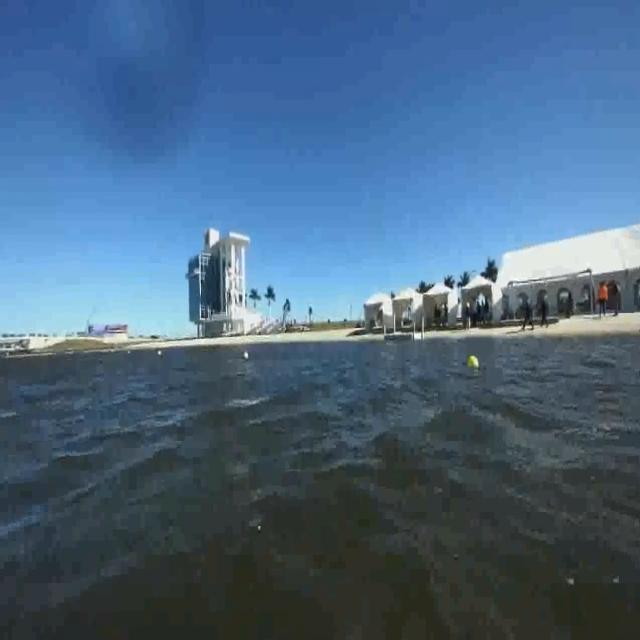yellow-buoy: (470, 354, 481, 370)
